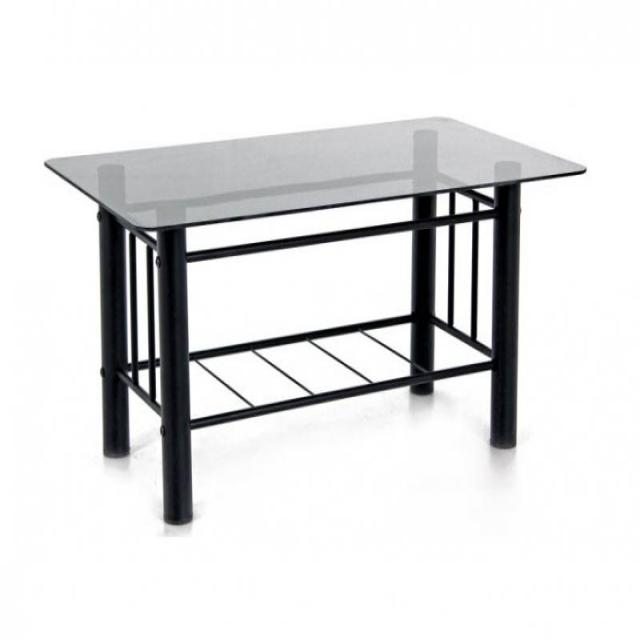table: (36, 101, 609, 533)
